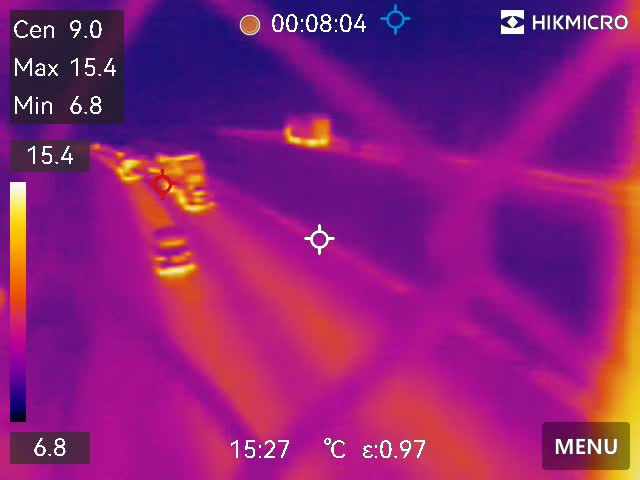heavyTruck: (279, 111, 333, 148)
